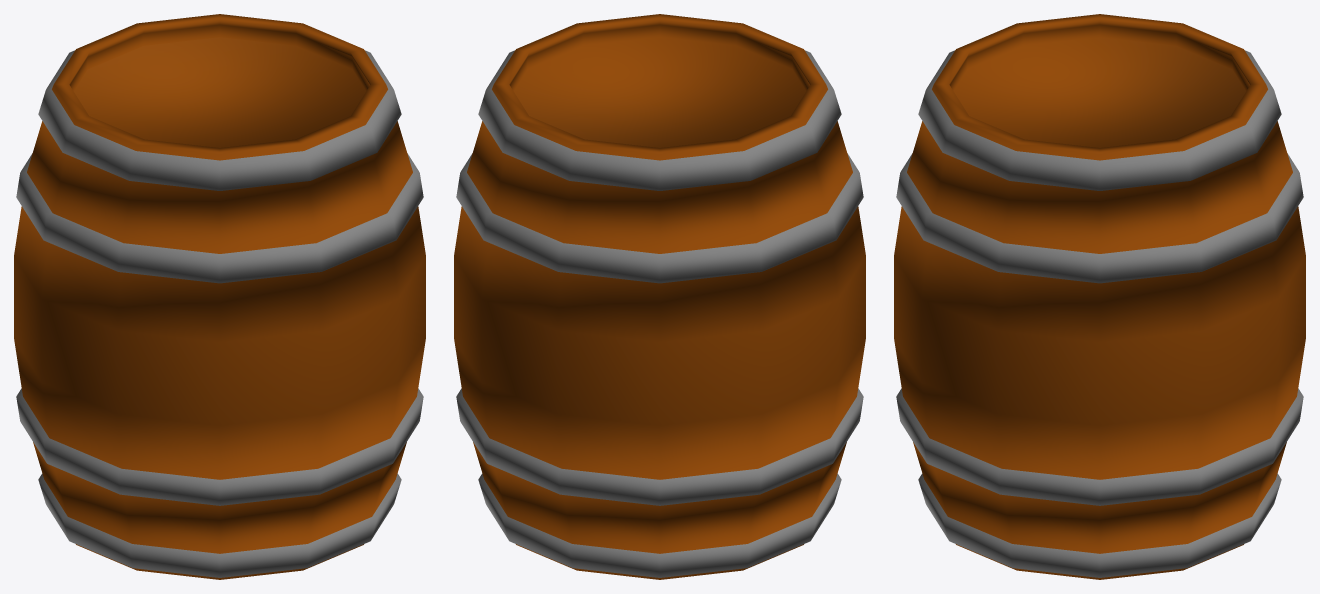
The model's file is BarrelWooden.fbx.
3 views of the same model, side by side, from view 1: azimuth 30°, elevation 25°; view 2: azimuth 150°, elevation 25°; view 3: azimuth 270°, elevation 25° (orthographic).
Parts seen in each view (by area): view 1: Cylinder; view 2: Cylinder; view 3: Cylinder.
Boxes of the visible parts, bbox=[...] form: Cylinder: bbox=[14, 14, 425, 579]; Cylinder: bbox=[454, 14, 865, 579]; Cylinder: bbox=[894, 14, 1305, 579].
Bounding box in the file's own units: 2.45 × 2.79 × 2.45.
